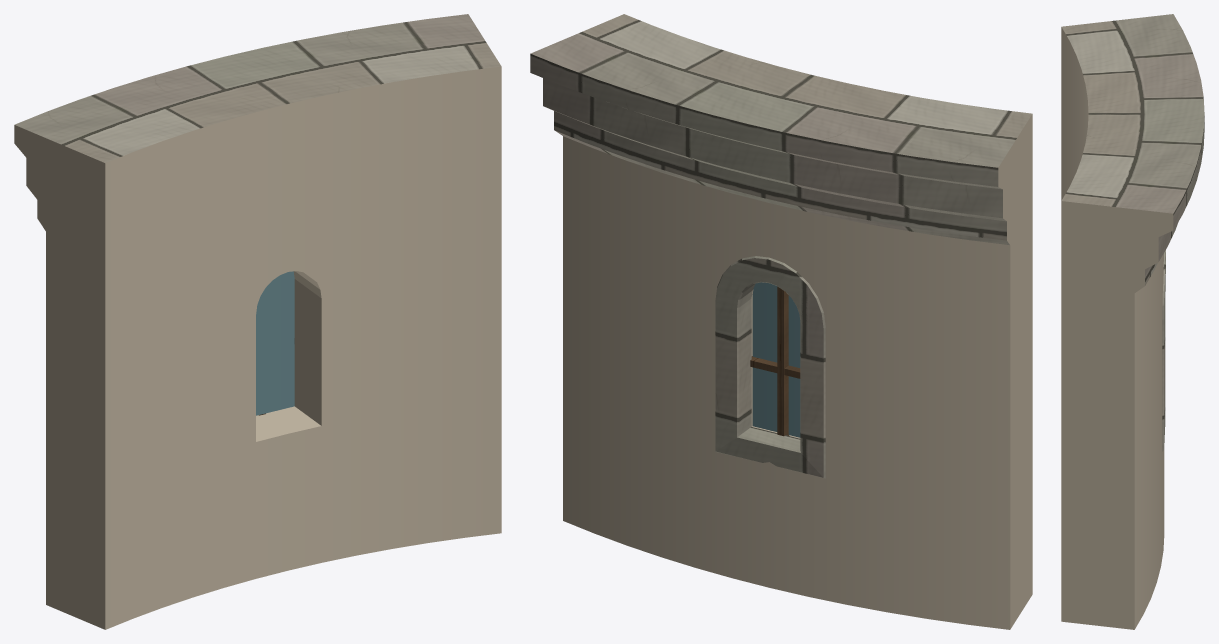
The model's file is Furn_Tower3_R50_TopWindow.fbx.
3 views of the same model, side by side, from view 1: azimuth 30°, elevation 25°; view 2: azimuth 150°, elevation 25°; view 3: azimuth 270°, elevation 25° (orthographic). The views are drawn at different scales.
Parts seen in each view (by area): view 1: Furn_Tower3_R50_TopWindow; view 2: Furn_Tower3_R50_TopWindow; view 3: Furn_Tower3_R50_TopWindow.
Boxes of the visible parts, bbox=[...] form: Furn_Tower3_R50_TopWindow: bbox=[14, 14, 501, 629]; Furn_Tower3_R50_TopWindow: bbox=[530, 14, 1032, 629]; Furn_Tower3_R50_TopWindow: bbox=[1061, 14, 1204, 629].
Bounding box in the file's own units: 3.05 × 3 × 0.9255.
